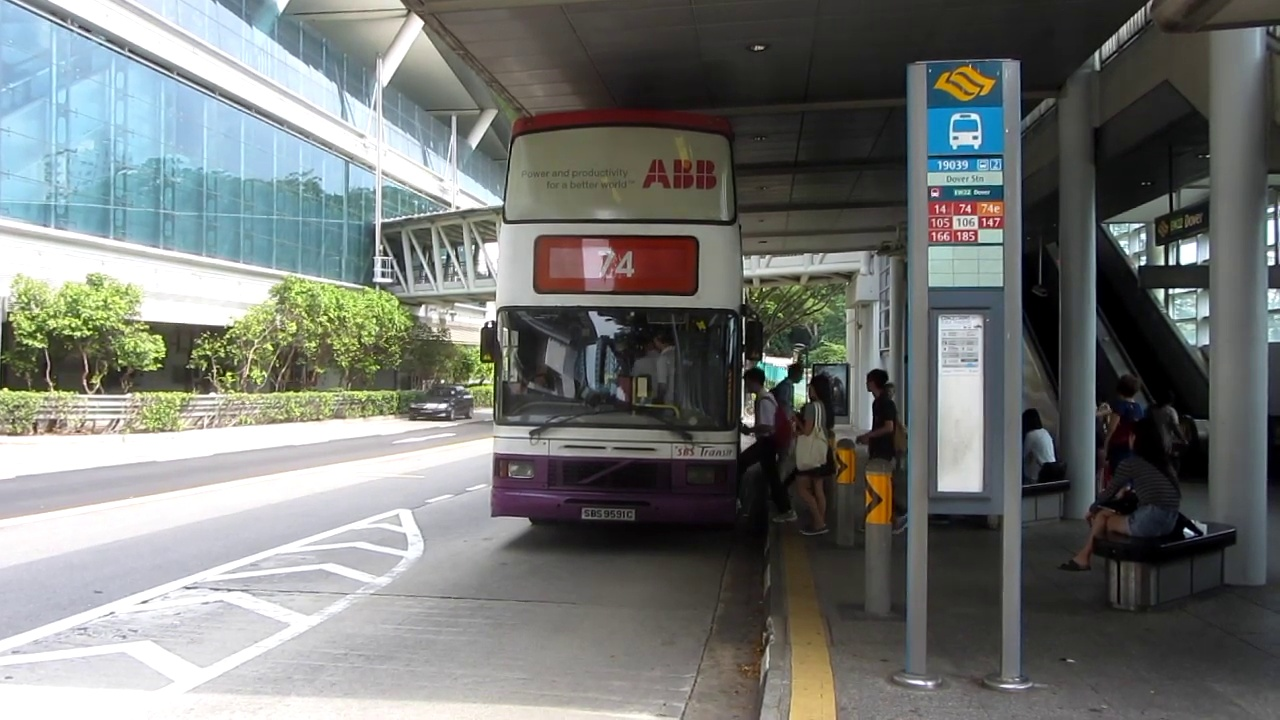bus panel: (531, 232, 702, 299)
